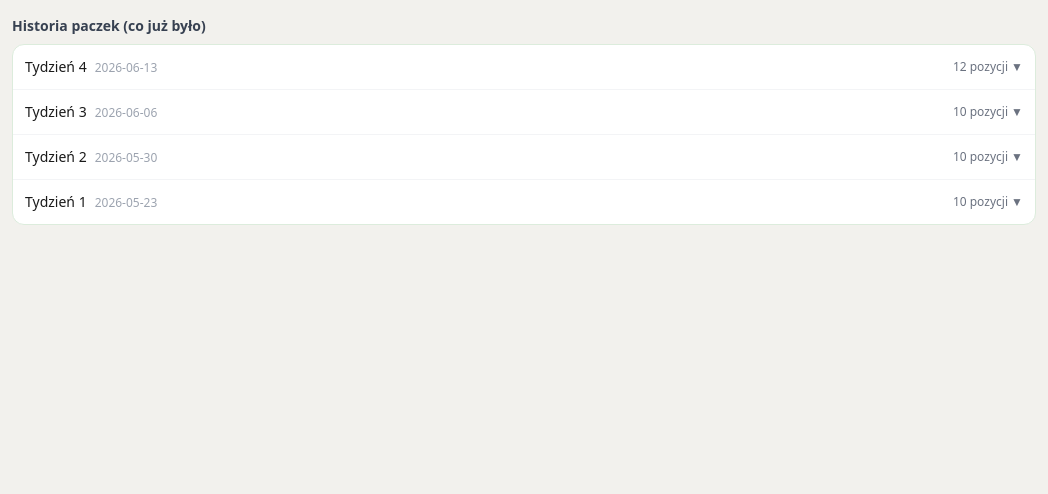
Test: PackageHistory — historia paczek na Pulpicie (F7) › listuje tygodnie i po kliknięciu pokazuje skład
The image size is (1048, 494).
Check: the heading "Historia paczek (co już było)" is shown, box left=12, top=16, right=206, bottom=35
Click the text "Tydzień 4". click: (56, 66)
box: left=25, top=57, right=87, bottom=76
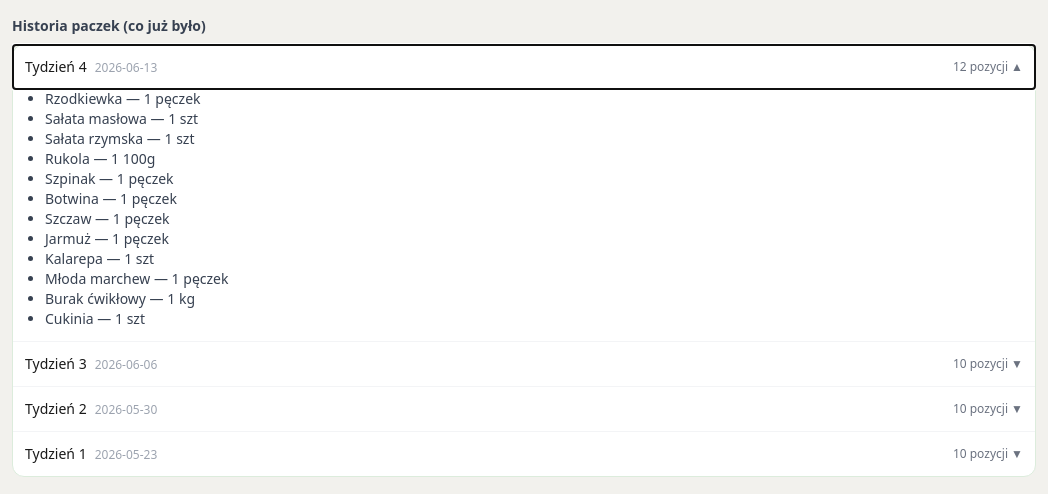
Check: the list item "Rzodkiewka — 1 pęczek" is shown, box left=45, top=89, right=200, bottom=108
